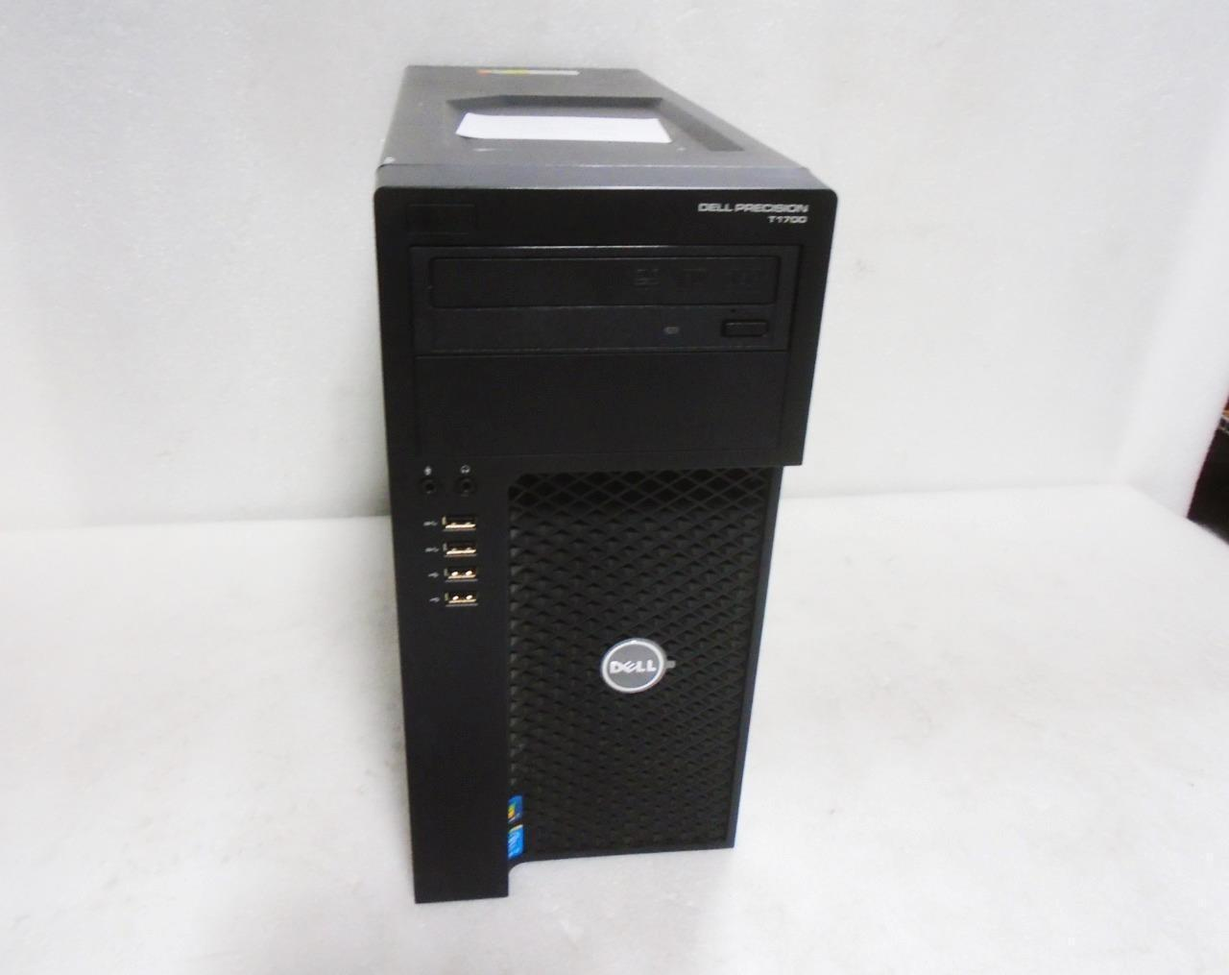DESKTOP PC: (368, 56, 843, 914)
